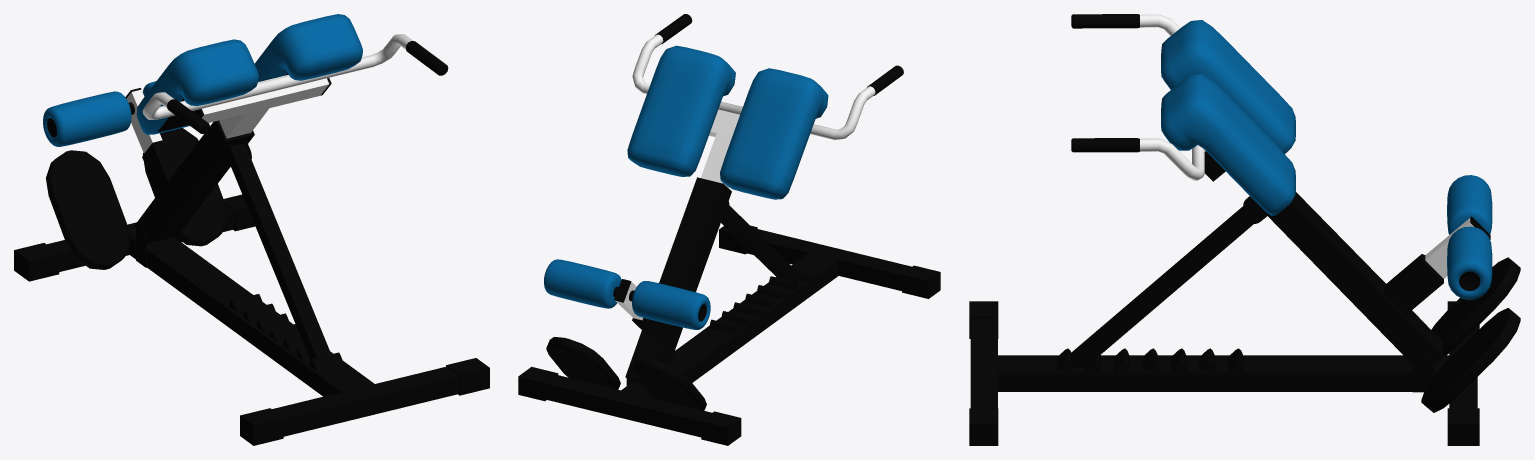
File: BackExtension.fbx
3 views of the same model, side by side, from view 1: azimuth 30°, elevation 25°; view 2: azimuth 150°, elevation 25°; view 3: azimuth 270°, elevation 25° (orthographic). The views are drawn at different scales.
Parts seen in each view (by area): view 1: MachineBase, MachineBase.002, Cube, Plane, Plane.001, MachineBase.005, Cylinder, MachineBase.007, Cube.001; view 2: MachineBase, Plane, Plane.001, MachineBase.002, MachineBase.007, Cylinder, Cube, Cube.001, MachineBase.005; view 3: MachineBase, MachineBase.002, Plane.001, Plane, MachineBase.007, MachineBase.005, Cube.001, Cylinder, Cube.
Boxes of the visible parts, box(x1,y1,x2,y2) form: MachineBase: box(14, 194, 489, 445); MachineBase.002: box(125, 75, 331, 243); Cube: box(46, 150, 129, 269); Plane: box(136, 39, 258, 134); Plane.001: box(254, 14, 362, 81); MachineBase.005: box(231, 143, 330, 359); Cylinder: box(142, 34, 448, 133); MachineBase.007: box(43, 81, 156, 146); Cube.001: box(142, 128, 226, 246); MachineBase: box(518, 225, 940, 445); Plane: box(720, 68, 828, 199); Plane.001: box(627, 45, 735, 176); MachineBase.002: box(614, 109, 739, 383); MachineBase.007: box(544, 259, 710, 329); Cylinder: box(632, 14, 903, 139); Cube: box(632, 358, 706, 410); Cube.001: box(546, 337, 620, 389); MachineBase.005: box(721, 205, 801, 282); MachineBase: box(969, 301, 1479, 445); MachineBase.002: box(1204, 150, 1490, 364); Plane.001: box(1161, 74, 1295, 215); Plane: box(1161, 20, 1295, 153); MachineBase.007: box(1447, 175, 1492, 299); MachineBase.005: box(1070, 199, 1253, 367); Cube.001: box(1421, 308, 1520, 412); Cylinder: box(1071, 14, 1204, 180); Cube: box(1431, 257, 1520, 355).
Size of the model in its own units: 64.74 by 75.31 by 116.
